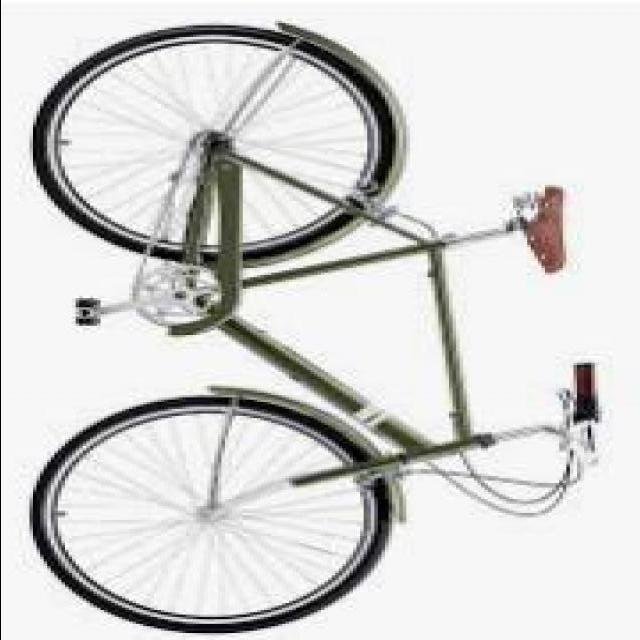bicycle: (29, 38, 605, 630)
